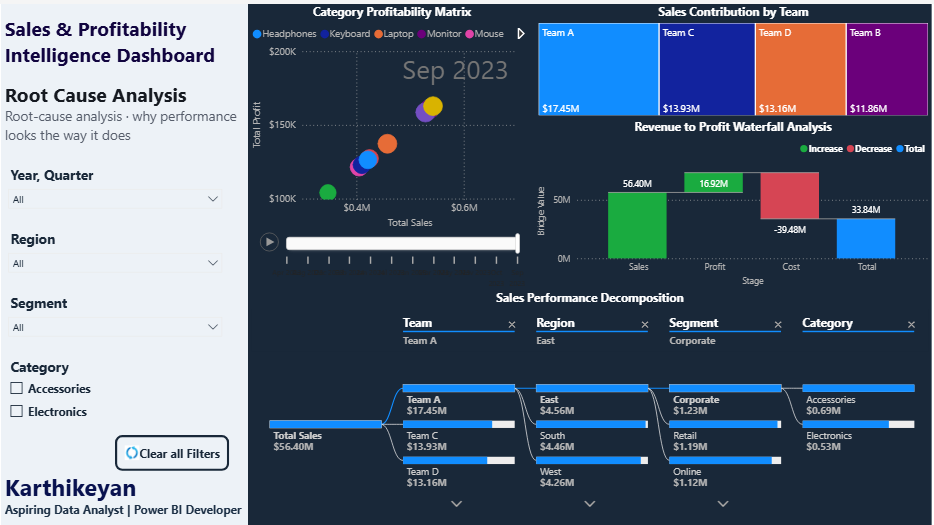

This screenshot's page, from the dashboard's own definition file:
{"tool":"powerbi","page":{"name":"Root Cause Analysis","canvas":[1280,720],"ordinal":2},"visuals":[{"type":"shape","box":[0,0,340.6,720],"z":0,"group":"g1"},{"type":"shape","box":[339.1,0,939.6,720],"z":1000,"group":"g1"},{"type":"textbox","box":[0,9,340.6,91.1],"z":2000,"group":"g1"},{"type":"scatterChart","title":"Category Profitability Matrix","fields":{"X":["SalesData.Total Sales"],"Y":["SalesData.Total Profit"],"Size":["Sum(SalesData.Quantity)"],"Play":["Calendar.MonthYearShort"],"Series":["SalesData.Product"]},"box":[340.6,0,392.9,392.9],"z":3000,"group":"g1"},{"type":"slicer","fields":{"Values":["Calendar.Year","Calendar.Quarter"]},"box":[0,216.6,313.7,88.1],"z":4000,"group":"g1"},{"type":"slicer","fields":{"Values":["SalesData.Region"]},"box":[0,304.7,313.7,88.1],"z":5000,"group":"g1"},{"type":"slicer","fields":{"Values":["SalesData.Category"]},"box":[0,481,313.7,110.5],"z":6000,"group":"g1"},{"type":"slicer","fields":{"Values":["SalesData.Segment"]},"box":[0,392.9,313.7,88.1],"z":7000,"group":"g1"},{"type":"textbox","box":[0,636.3,339.1,83.7],"z":8000,"group":"g1"},{"type":"actionButton","box":[156.8,591.5,156.8,49.3],"z":9000,"group":"g1"},{"type":"textbox","box":[0,100.1,340.6,116.5],"z":10000,"group":"g1"},{"type":"waterfallChart","title":"Revenue to Profit Waterfall Analysis","fields":{"Category":["BridgeStage.Stage"],"Y":["BridgeStage.Bridge Value"]},"box":[732,158.3,546.7,234.5],"z":11000,"group":"g1"},{"type":"decompositionTreeVisual","title":"Sales Performance Decomposition","fields":{"Analyze":["SalesData.Total Sales"],"ExplainBy":["SalesExecutives.Team","SalesData.Region","SalesData.Segment","SalesData.Category"]},"box":[339.1,392.9,939.6,327.1],"z":12000,"group":"g1"},{"type":"treemap","title":"Sales Contribution by Team","fields":{"Group":["SalesExecutives.Team"],"Values":["SalesData.Total Sales"]},"box":[733.4,0,545.2,158.3],"z":13000,"group":"g1"},{"type":"group","id":"g1","title":"Group 1","box":[0,0,1278.7,720],"z":13001}]}

Visuals, with their boxes on the page's 1280x720 design canvas (x1, y1, x2, y2). These are canvas units, not pixel positions in the 934x525 screenshot, which may show the page scaled, cropped or inside an application window:
shape: (0,0,341,720)
shape: (339,0,1279,720)
textbox: (0,9,341,100)
"Category Profitability Matrix" scatterChart: (341,0,734,393)
slicer - Calendar.Year x Calendar.Quarter: (0,217,314,305)
slicer - SalesData.Region: (0,305,314,393)
slicer - SalesData.Category: (0,481,314,592)
slicer - SalesData.Segment: (0,393,314,481)
textbox: (0,636,339,720)
actionButton: (157,592,314,641)
textbox: (0,100,341,217)
"Revenue to Profit Waterfall Analysis" waterfallChart: (732,158,1279,393)
"Sales Performance Decomposition" decompositionTreeVisual: (339,393,1279,720)
"Sales Contribution by Team" treemap: (733,0,1279,158)
"Group 1" group: (0,0,1279,720)
